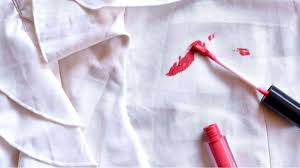kimchi: (163, 47, 199, 76), (188, 37, 209, 56), (236, 45, 251, 59), (210, 34, 218, 42)
